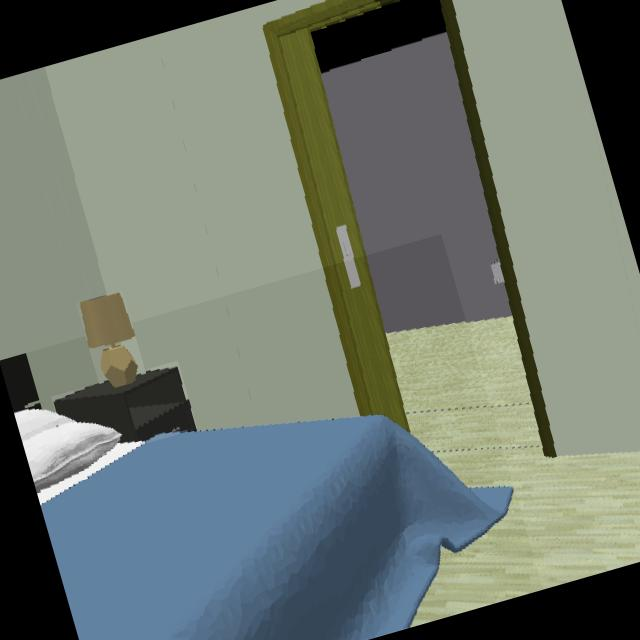bed: (0, 354, 515, 640)
lamp: (80, 294, 138, 389)
nighttable: (54, 369, 197, 444)
pillow: (14, 410, 123, 492)
